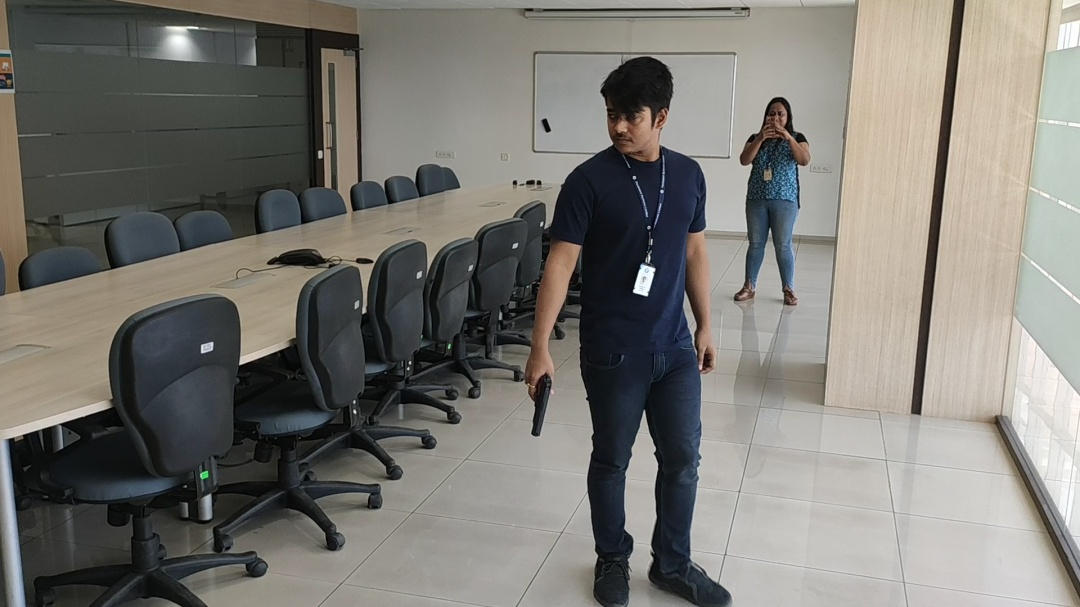gun: (529, 372, 554, 440)
